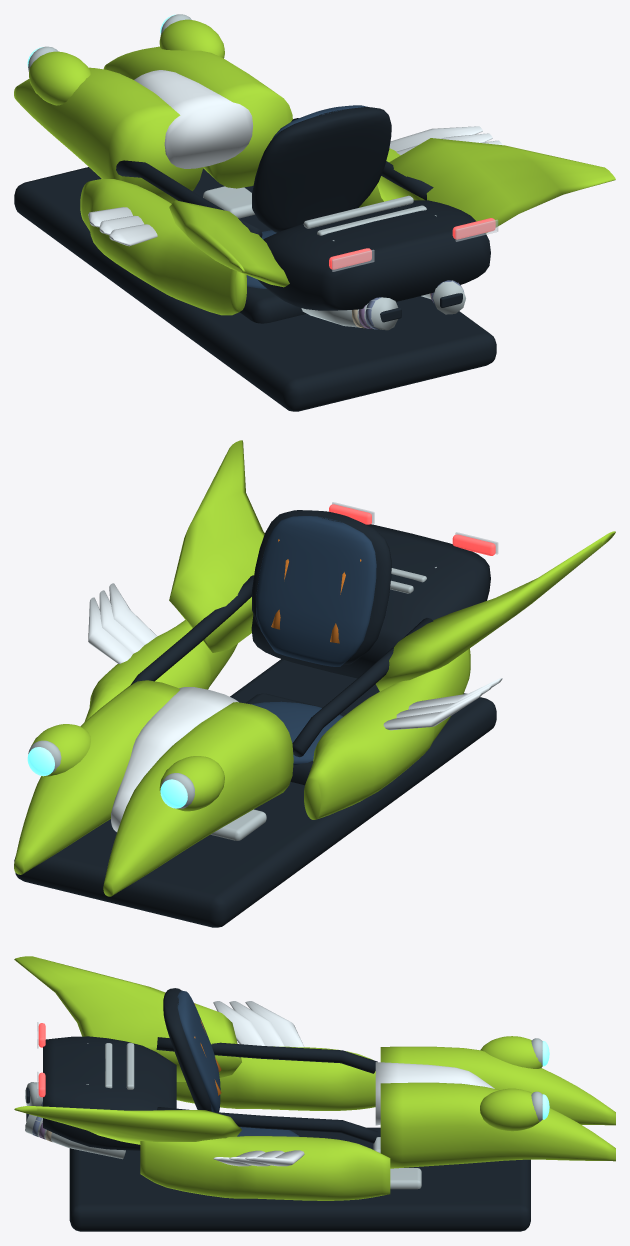
File: gecko_velo.glb
The picture shows the model from 3 angles, top to bottom: view 1: azimuth 30°, elevation 25°; view 2: azimuth 150°, elevation 25°; view 3: azimuth 270°, elevation 25°; orthographic projection. The views are drawn at different scales.
Visible parts, largest first — view 1: LOD0, ShowroomDetail; view 2: LOD0; view 3: LOD0, ShowroomDetail.
Boxes of the visible parts, box(x1,y1,x2,y2) form: LOD0: box(14, 14, 615, 411); ShowroomDetail: box(332, 219, 498, 329); LOD0: box(14, 440, 615, 927); LOD0: box(14, 956, 615, 1231); ShowroomDetail: box(32, 1003, 195, 1141).
Size of what is drawn, in the model's own units: 1.52 by 0.868 by 2.48.
